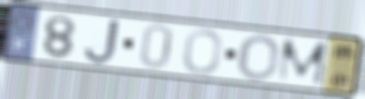0: (137, 23, 175, 72)
8: (42, 14, 80, 60)
J: (81, 17, 124, 65)
M: (275, 38, 330, 88)
O: (235, 32, 282, 82), (181, 28, 224, 76)
